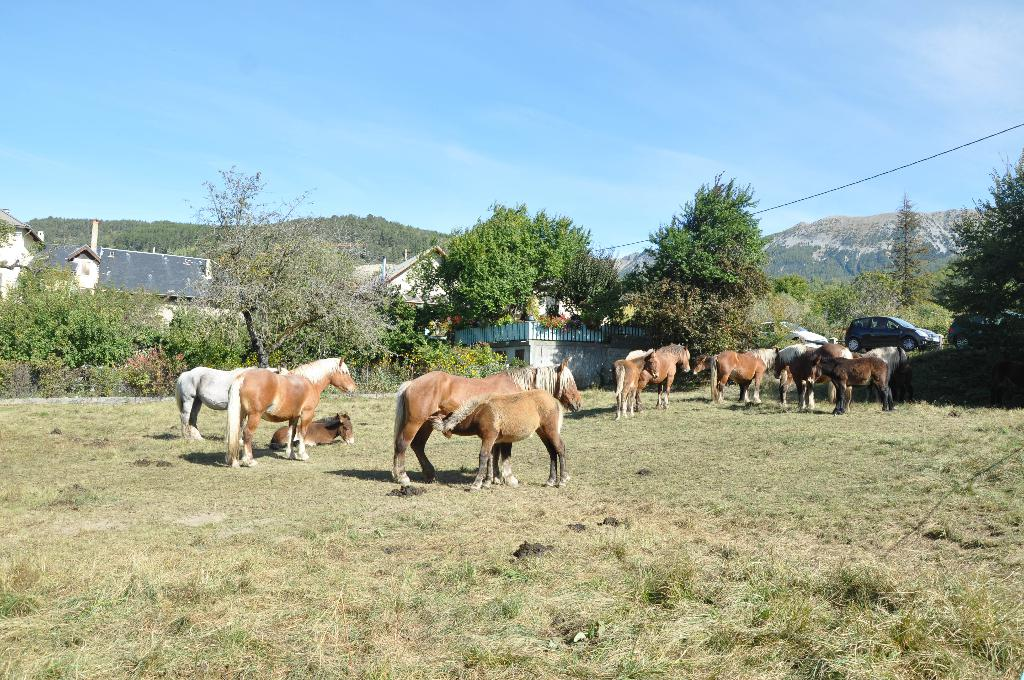Car: (844, 314, 945, 354), (757, 315, 819, 342)
